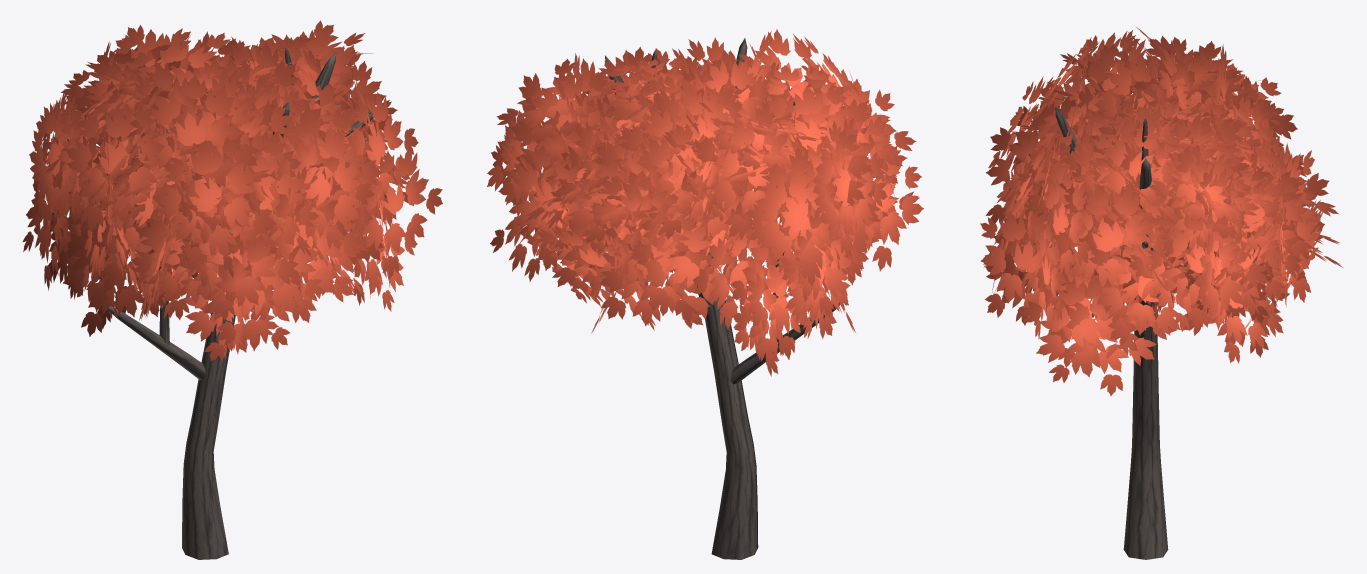
The model's file is MapleTree_4.gltf.
The picture shows the model from 3 angles, left to right: view 1: azimuth 30°, elevation 25°; view 2: azimuth 150°, elevation 25°; view 3: azimuth 270°, elevation 25°; orthographic projection. The views are drawn at different scales.
Parts seen in each view (by area): view 1: MapleTree_4; view 2: MapleTree_4; view 3: MapleTree_4.
Boxes of the visible parts, x1,y1,x2,y2 form: MapleTree_4: (22, 20, 442, 559); MapleTree_4: (487, 29, 923, 559); MapleTree_4: (980, 27, 1342, 559).
Bounding box in the file's own units: 2.77 × 3.59 × 2.43.
2 materials, 2 textured.
